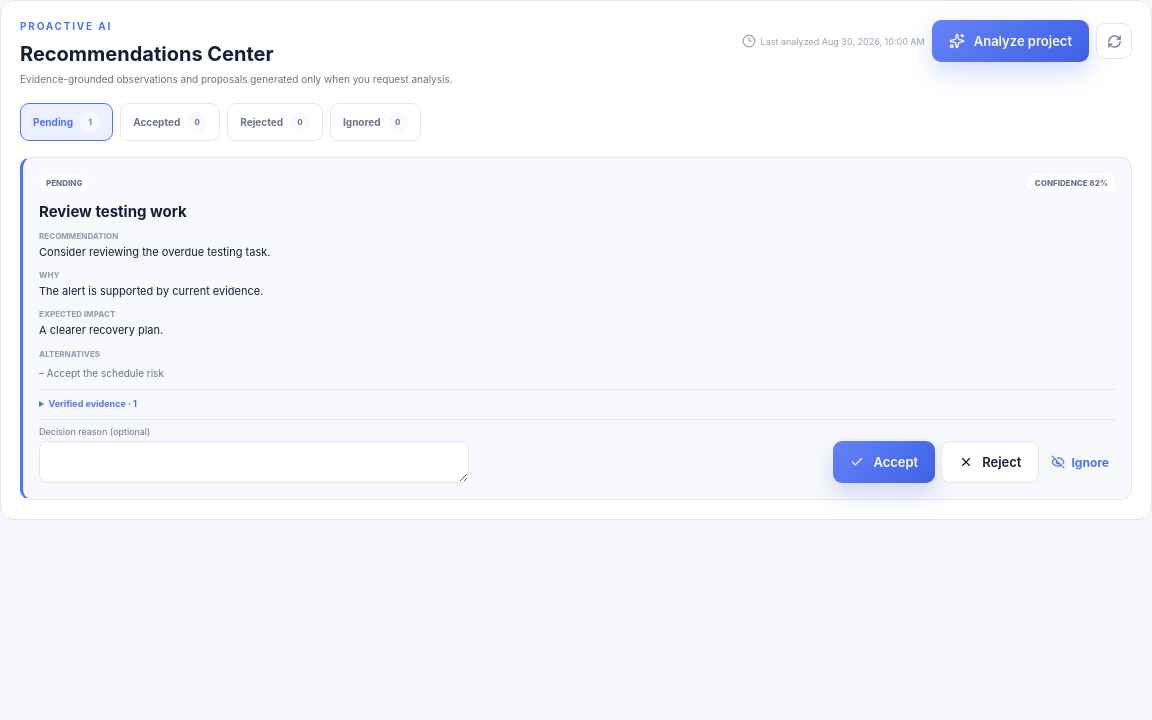
Test: AI analysis workspace › records recommendation acceptance without presenting execution
Expected: the heading "Review testing work" is shown, [39,202,187,221]
Type "Agreed" into the text box labelled "Decision reason (optional)" at (254, 462), box [39,441,469,483]
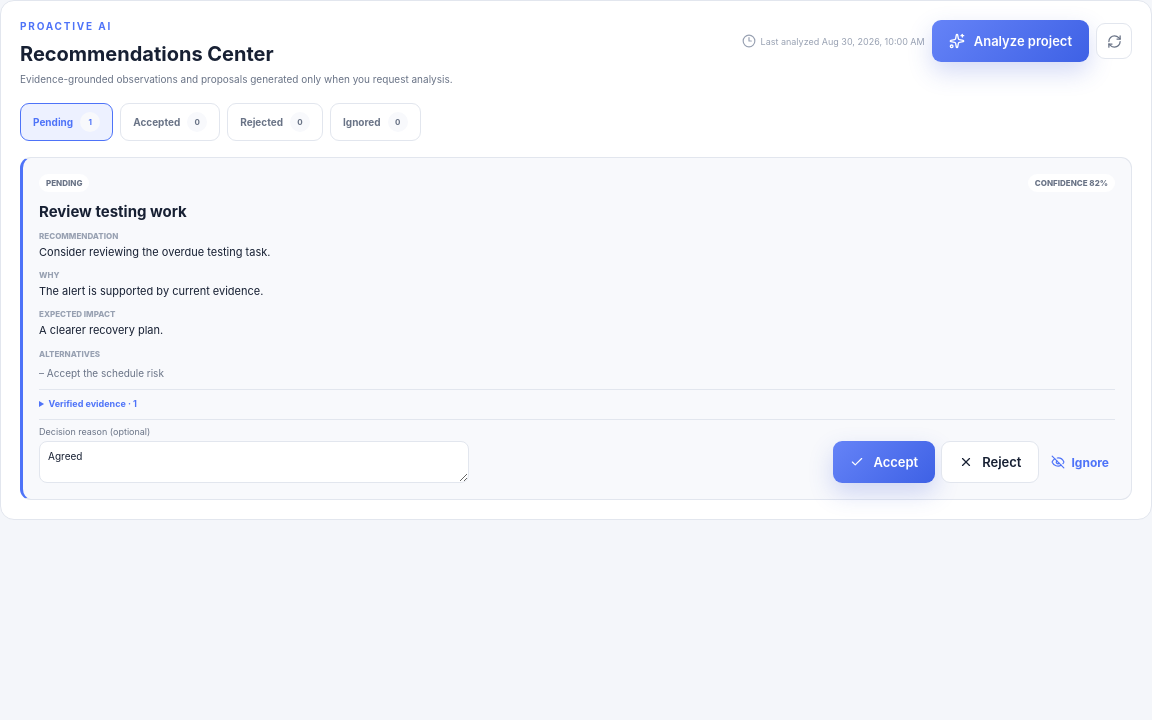
Click the button "Accept" at (884, 462), box [833,441,935,483]
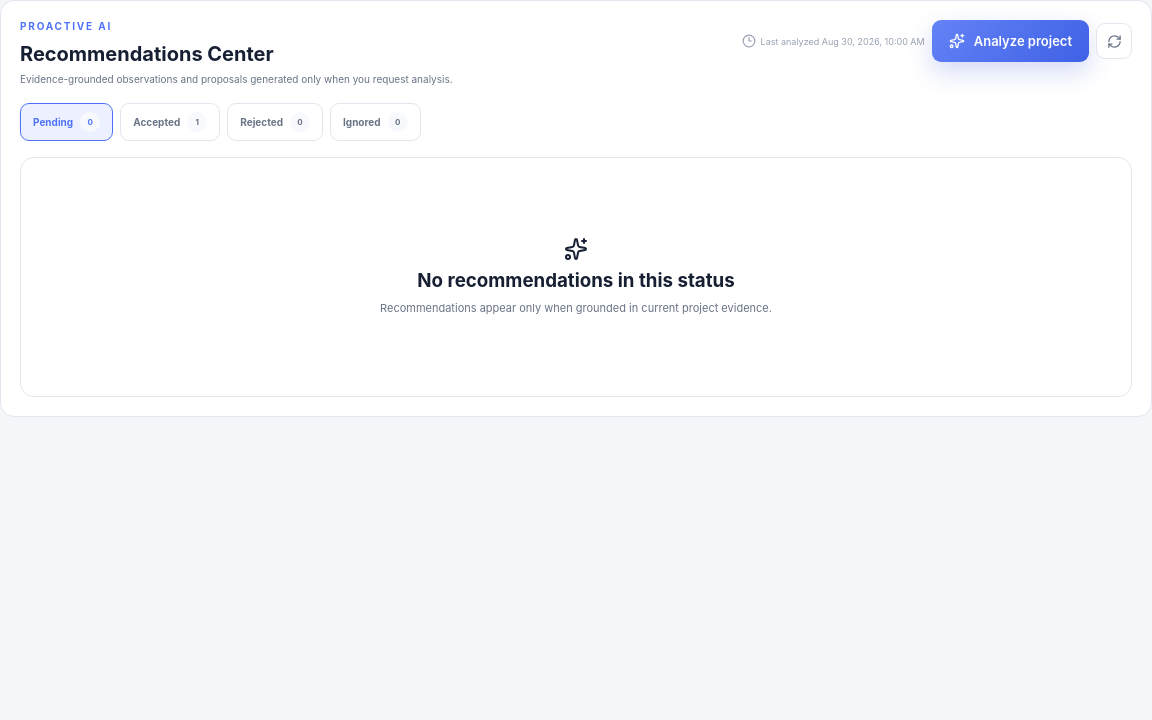
Now the heading "Review testing work" is gone
